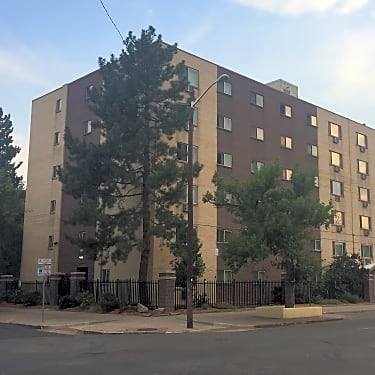tree: (53, 24, 204, 305), (202, 157, 337, 279)
